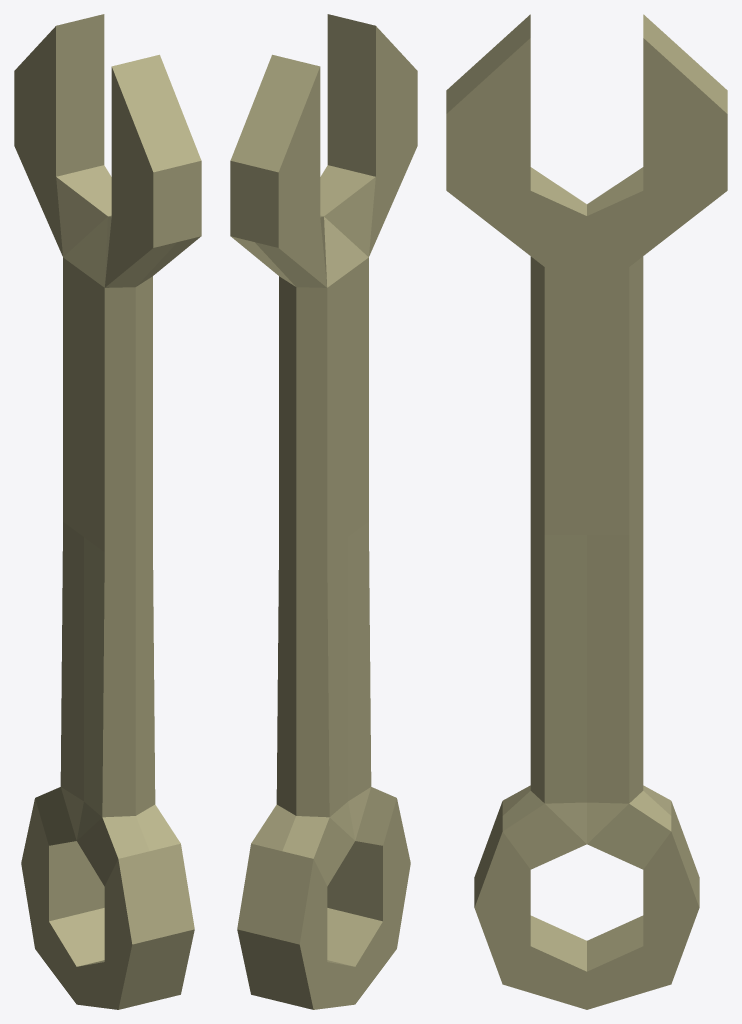
The model's file is Wrench.glb.
3 renders of one model, left to right at view 1: azimuth 30°, elevation 25°; view 2: azimuth 150°, elevation 25°; view 3: azimuth 270°, elevation 25°, orthographic.
Visible parts, largest first — view 1: Cube; view 2: Cube; view 3: Cube.
Boxes of the visible parts, x1,y1,x2,y2 form: Cube: (14, 14, 201, 1009); Cube: (230, 14, 417, 1009); Cube: (446, 14, 727, 1009).
Bounding box in the file's own units: 0.26 × 3.8 × 1.
